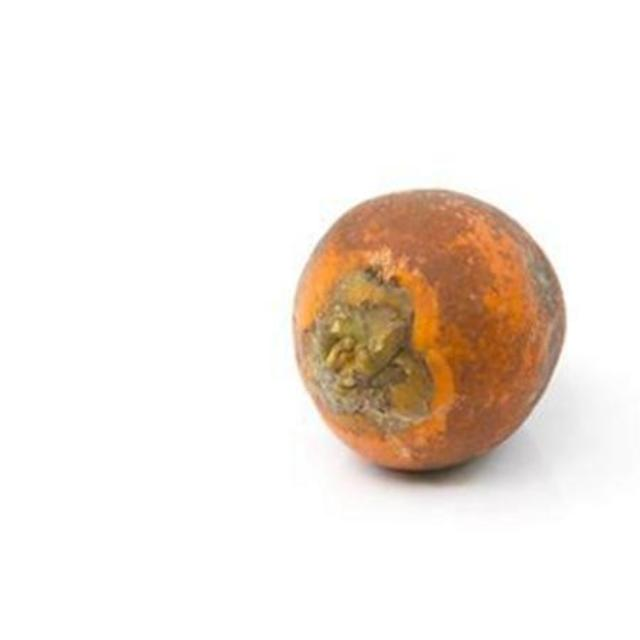good: (292, 189, 567, 475)
